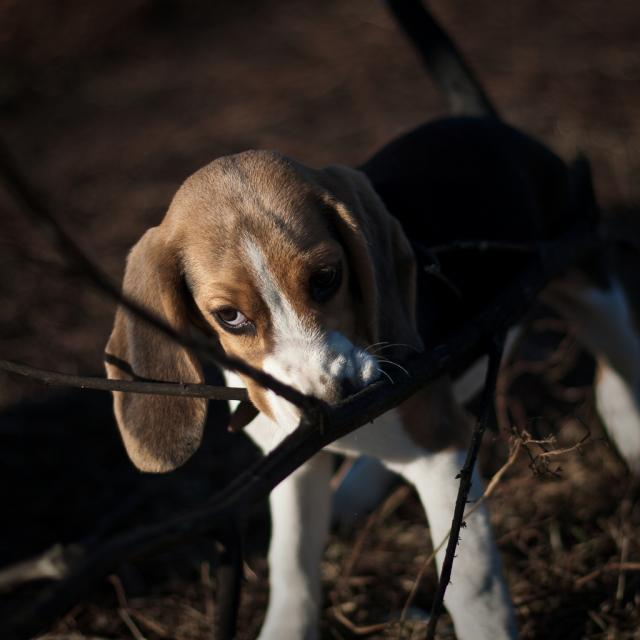Dog: (95, 109, 639, 639)
